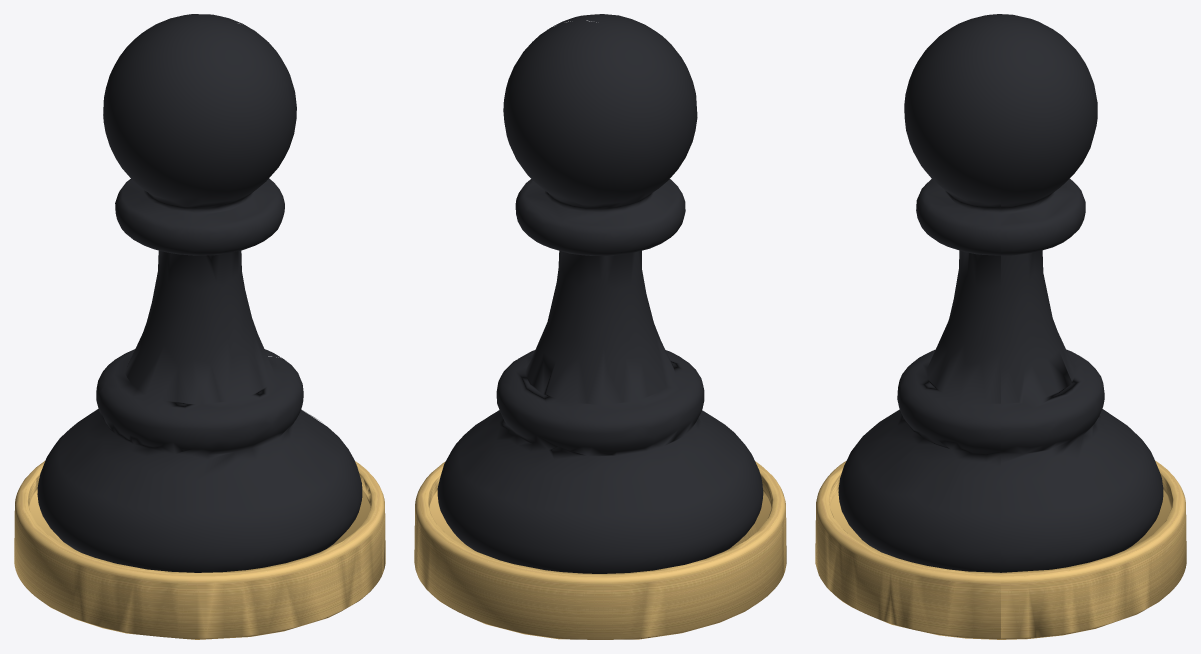
The model's file is pawn-black.glb.
The picture shows the model from 3 angles, left to right: view 1: azimuth 30°, elevation 25°; view 2: azimuth 150°, elevation 25°; view 3: azimuth 270°, elevation 25°; orthographic projection.
Visible parts, largest first — view 1: Aurum Noir – Pawn; view 2: Aurum Noir – Pawn; view 3: Aurum Noir – Pawn.
Part boxes in pixels (<box>): Aurum Noir – Pawn: <box>14,14,385,639</box>; Aurum Noir – Pawn: <box>414,14,786,639</box>; Aurum Noir – Pawn: <box>815,14,1186,639</box>.
Size of the model in its own units: 0.5994 by 0.96 by 0.5994.
2 materials, 1 textured.
